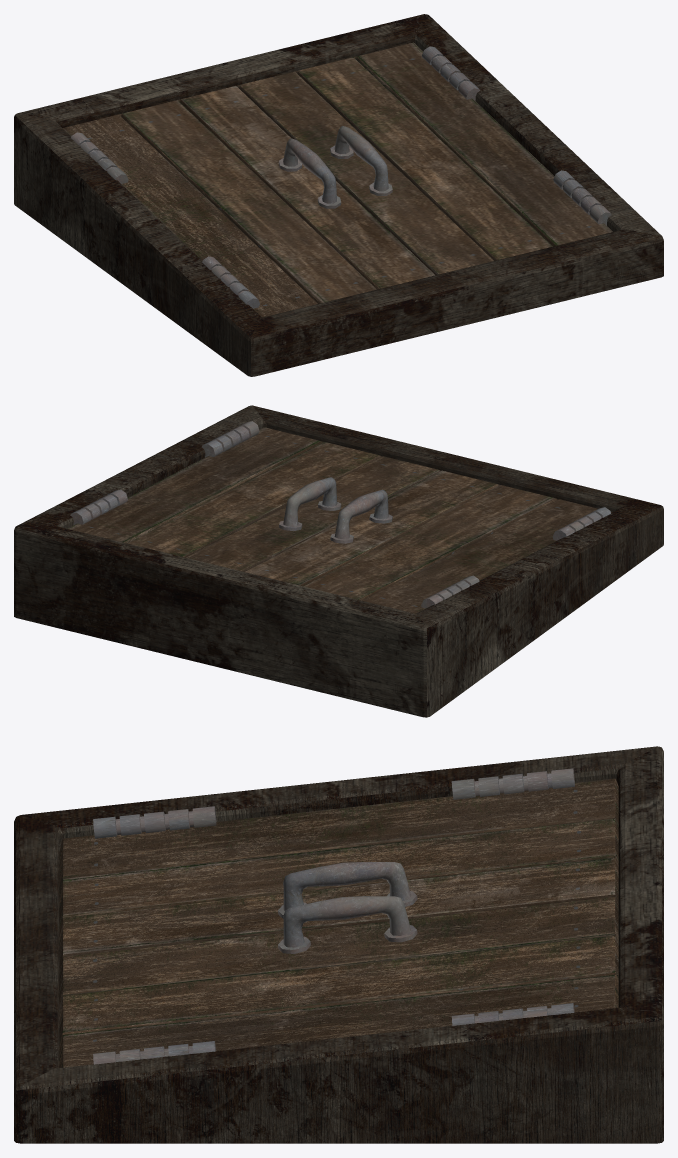
Rendered from WoodenTrapDoor.fbx.
3 views of the same model, one above another, from view 1: azimuth 30°, elevation 25°; view 2: azimuth 150°, elevation 25°; view 3: azimuth 270°, elevation 25° (orthographic). The views are drawn at different scales.
Parts seen in each view (by area): view 1: Wooden Trap Door; view 2: Wooden Trap Door; view 3: Wooden Trap Door.
Part boxes in pixels (<box>): Wooden Trap Door: <box>14,14,663,376</box>; Wooden Trap Door: <box>14,405,663,717</box>; Wooden Trap Door: <box>14,746,663,1143</box>.
Size of the model in its own units: 200 by 42.51 by 199.
